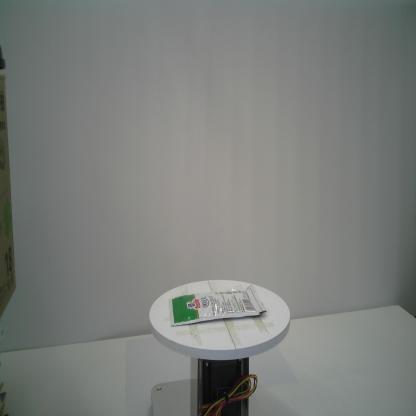Seasoner: (169, 283, 268, 327)
